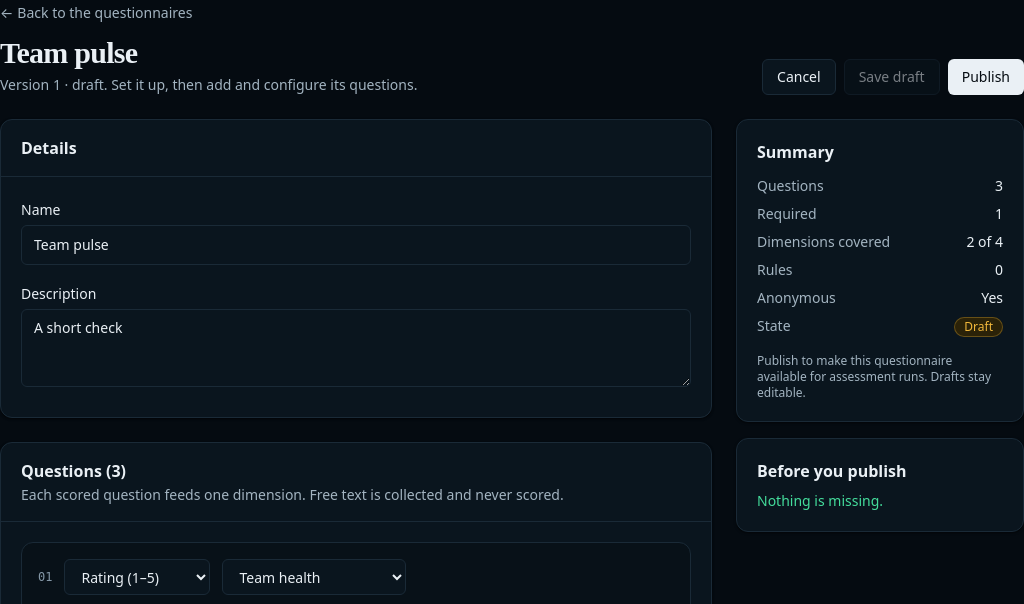
it: BuilderPage: saving and publishing › saves unsaved changes first and then publishes
Expected: the heading "Team pulse" is shown, 0,36 -> 137,69
Type "!" into the field labelled "Name" at {"x": 356, "y": 245}, box 21,225 -> 691,265
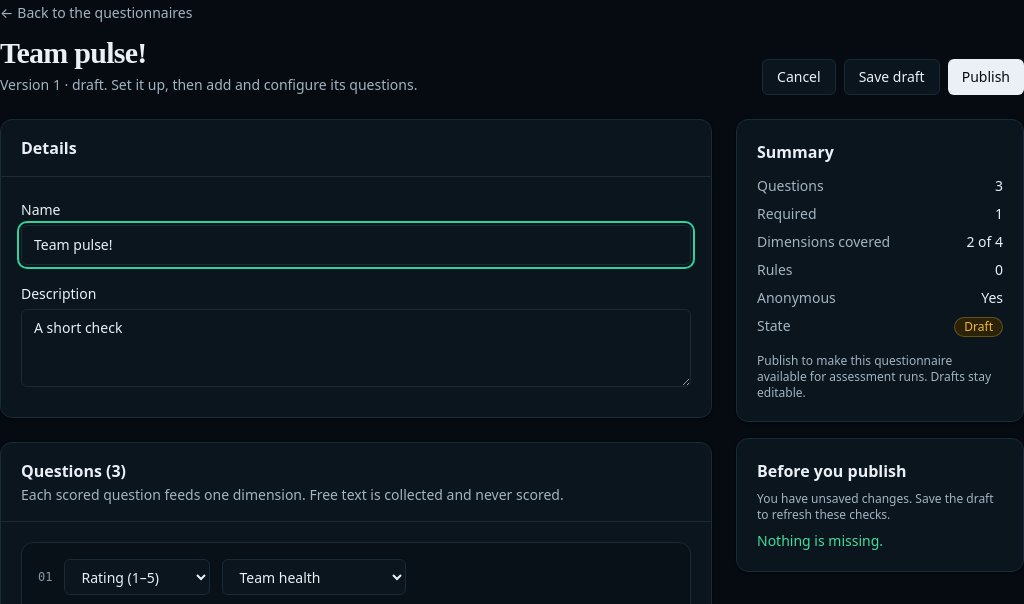
Click the button "Publish" at {"x": 986, "y": 77}, box 948,59 -> 1023,95
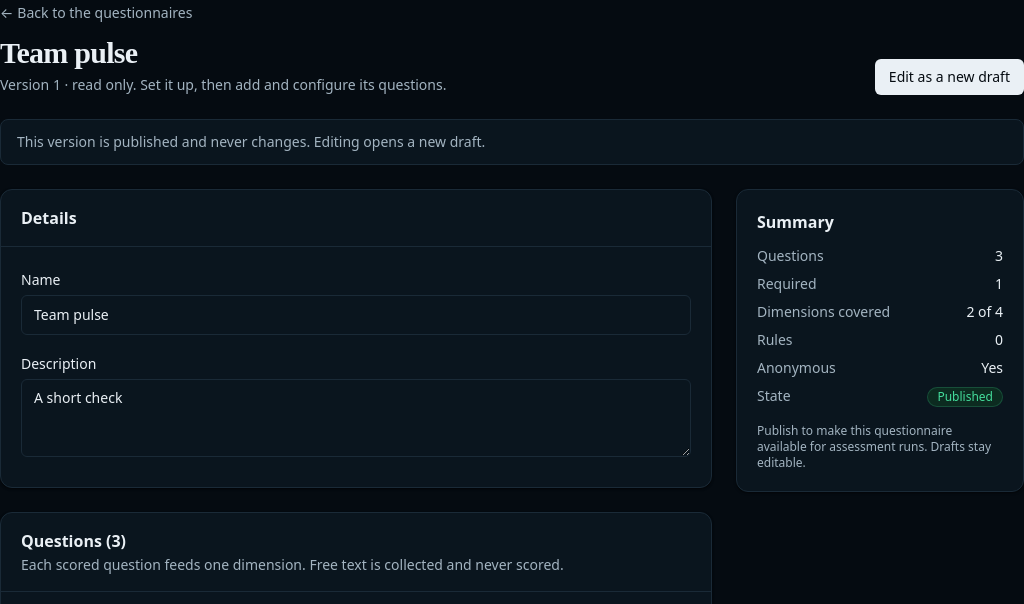
Now the text "This version is published and never changes" is shown, box 0,119 -> 1023,165
